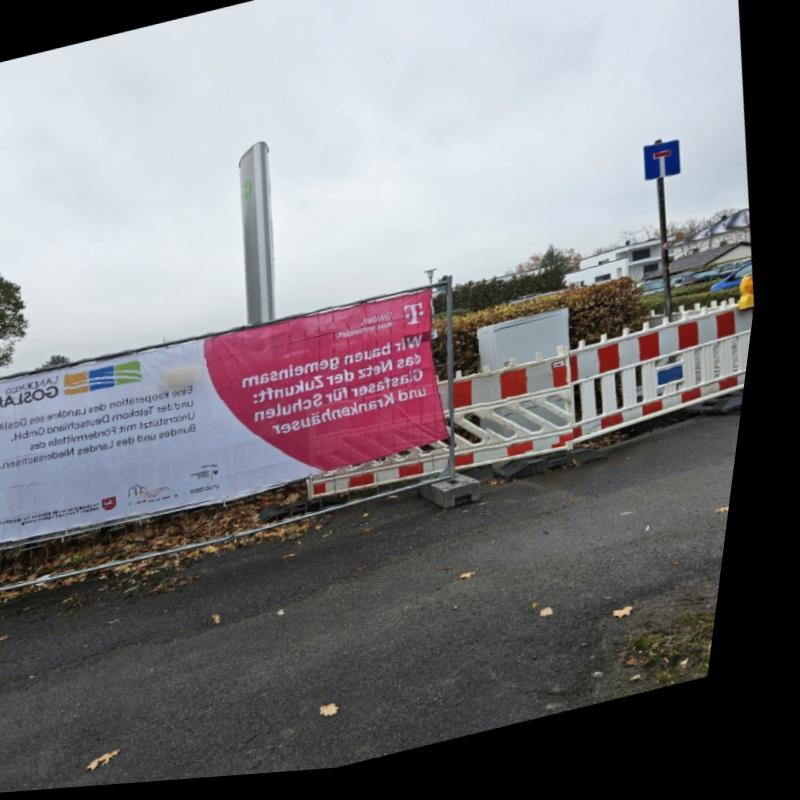Banner: (0, 288, 480, 563)
NT-Gehause: (472, 316, 599, 472)
